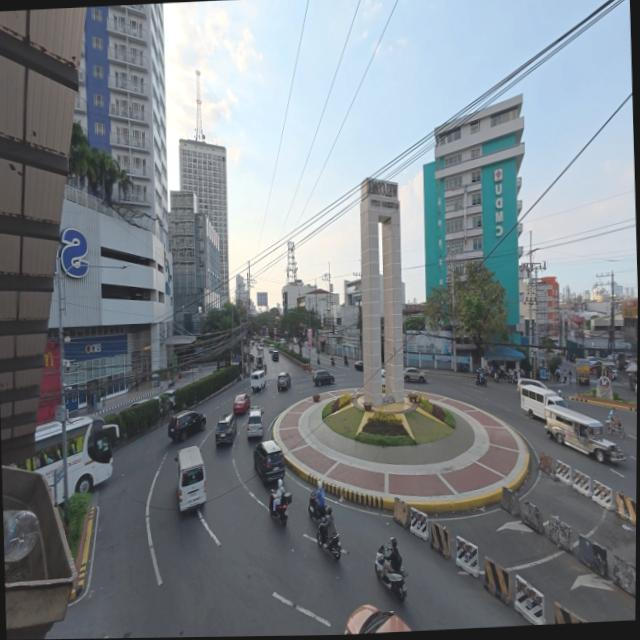Jeepneys: (545, 404, 624, 462)
bus: (17, 422, 63, 503)
car: (344, 604, 410, 634), (253, 440, 285, 484), (167, 411, 205, 441), (215, 415, 236, 446), (246, 407, 263, 438), (516, 378, 548, 393), (313, 370, 334, 387), (233, 393, 249, 414), (403, 367, 424, 383), (597, 361, 616, 378), (276, 373, 290, 391), (162, 390, 174, 407), (380, 367, 386, 384), (271, 349, 279, 361), (353, 361, 362, 371), (586, 357, 595, 366), (279, 337, 286, 346), (268, 345, 273, 353), (249, 353, 253, 362), (634, 385, 636, 394), (250, 341, 253, 347)
motorcycle: (374, 545, 407, 602), (316, 528, 340, 560), (268, 492, 290, 526), (307, 490, 323, 521), (606, 419, 624, 438), (475, 375, 486, 387), (628, 377, 636, 390), (510, 370, 517, 384), (167, 378, 174, 387), (343, 357, 347, 367), (330, 357, 333, 366), (316, 356, 319, 365)
trucks: (574, 359, 590, 383)
vans: (175, 446, 205, 510), (520, 385, 555, 419), (250, 370, 265, 391)
